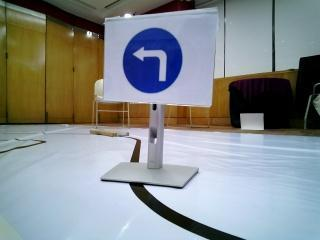left: (109, 18, 207, 104)
